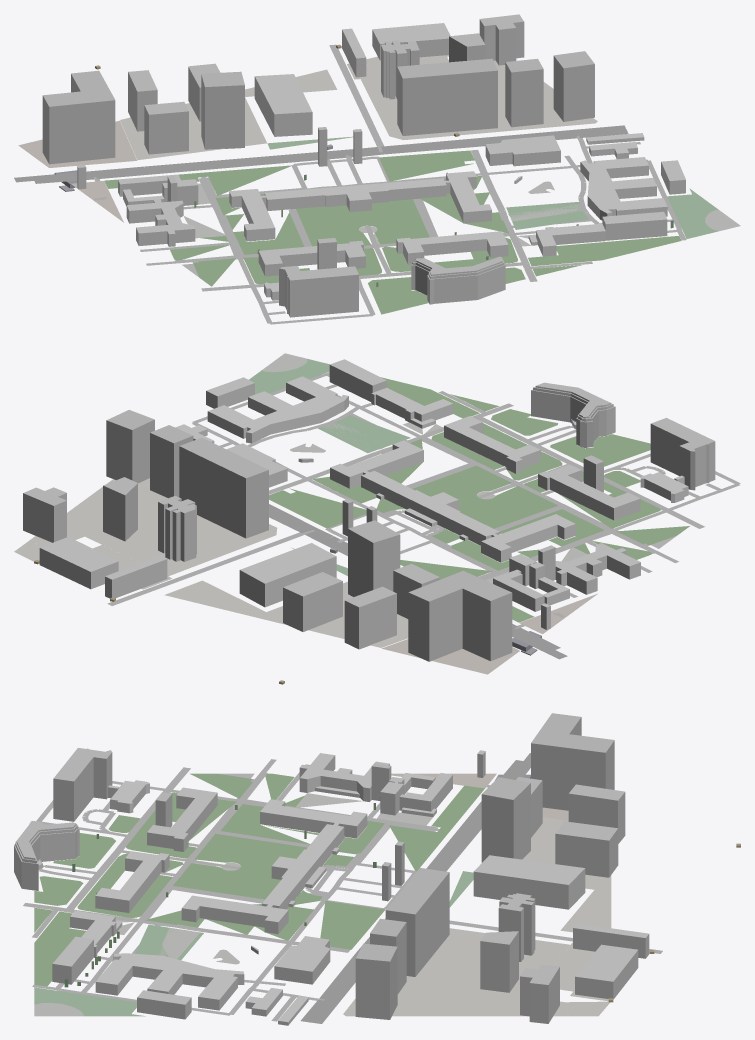
3 renders of one model, top to bottom at view 1: azimuth 30°, elevation 25°; view 2: azimuth 150°, elevation 25°; view 3: azimuth 270°, elevation 25°, orthographic. The views are drawn at different scales.
Size of the model in its own units: 563 by 78.02 by 630.
